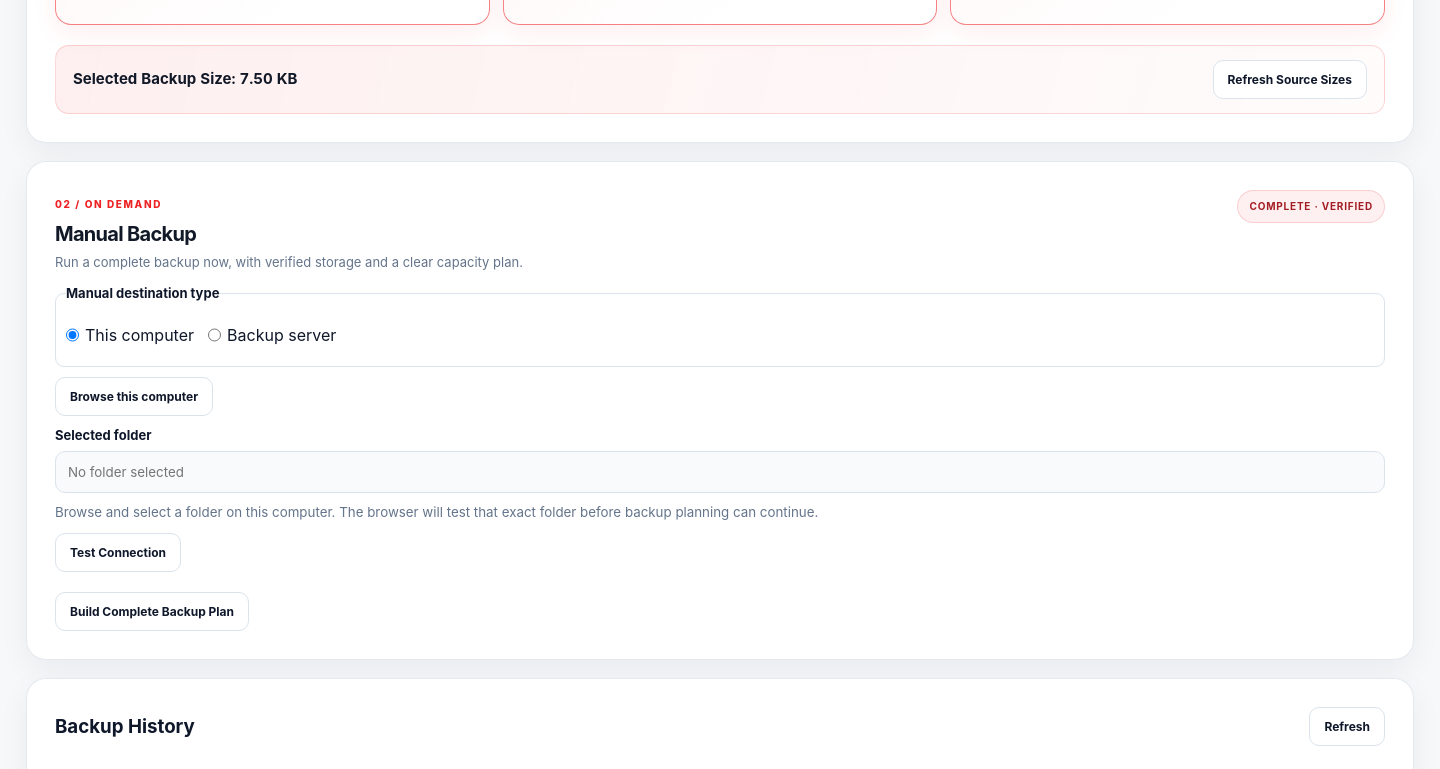
Test: AdminBackupPage › unsafe plan validation shows one actionable error and never starts the backup
(page scrolled)
Click the button "Browse this computer" at (134, 396), box x1=55 y1=377 x2=213 y2=416
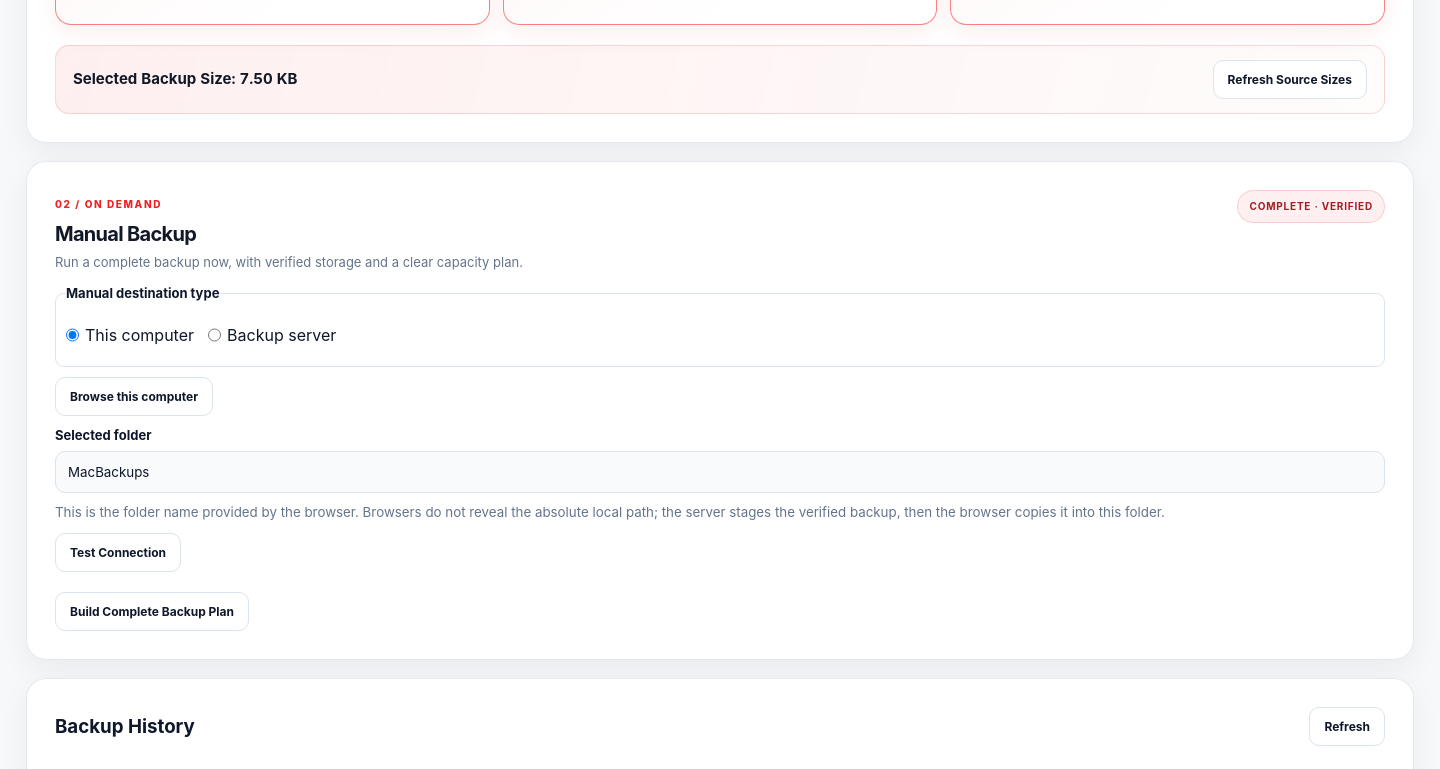
Check: the field labelled "Selected folder" holds "MacBackups", box x1=55 y1=451 x2=1385 y2=493
Click the button "Test Connection" at (118, 553), box x1=55 y1=533 x2=181 y2=572
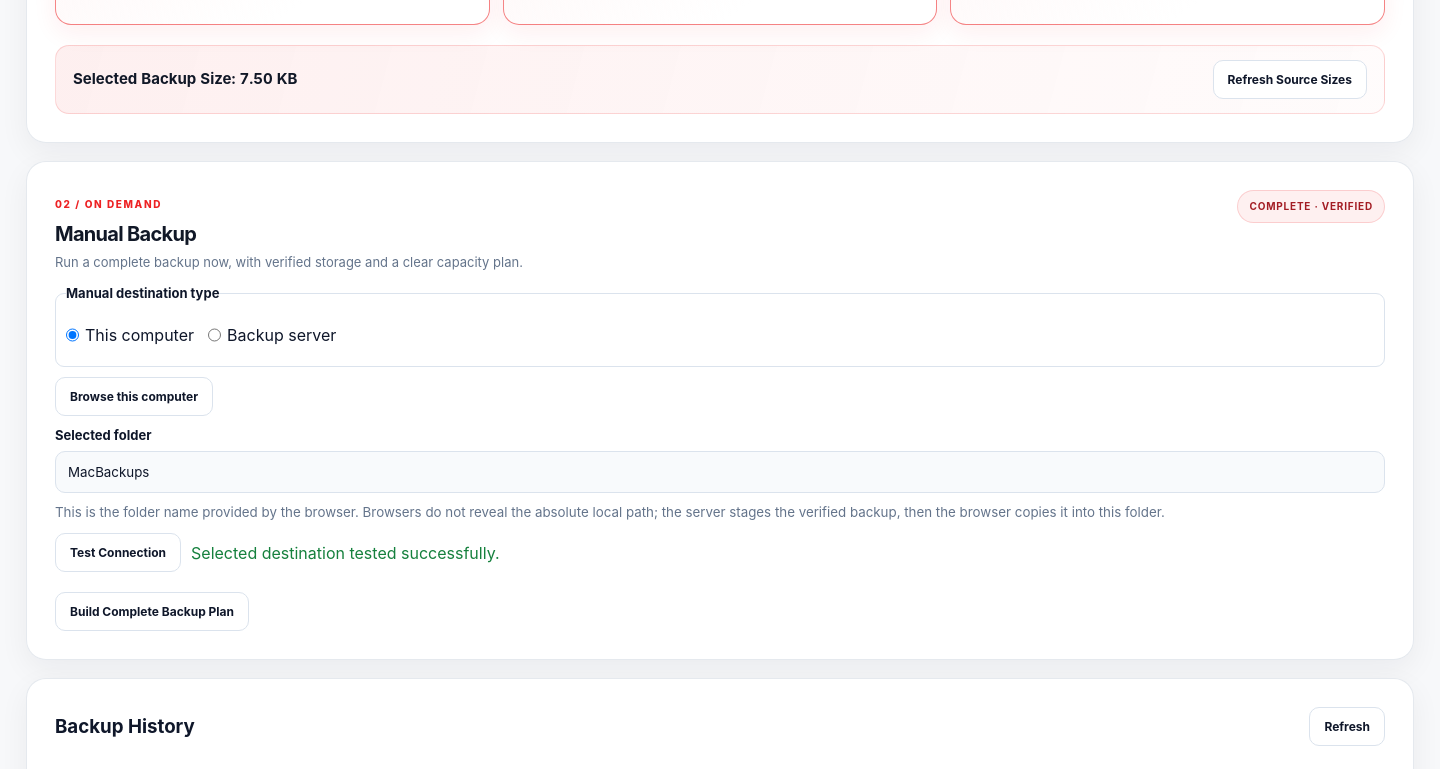
Check: the text "Selected destination tested successfully." is shown, box x1=191 y1=541 x2=500 y2=565
Click the button "Build Complete Backup Plan" at (152, 612), box x1=55 y1=592 x2=249 y2=631
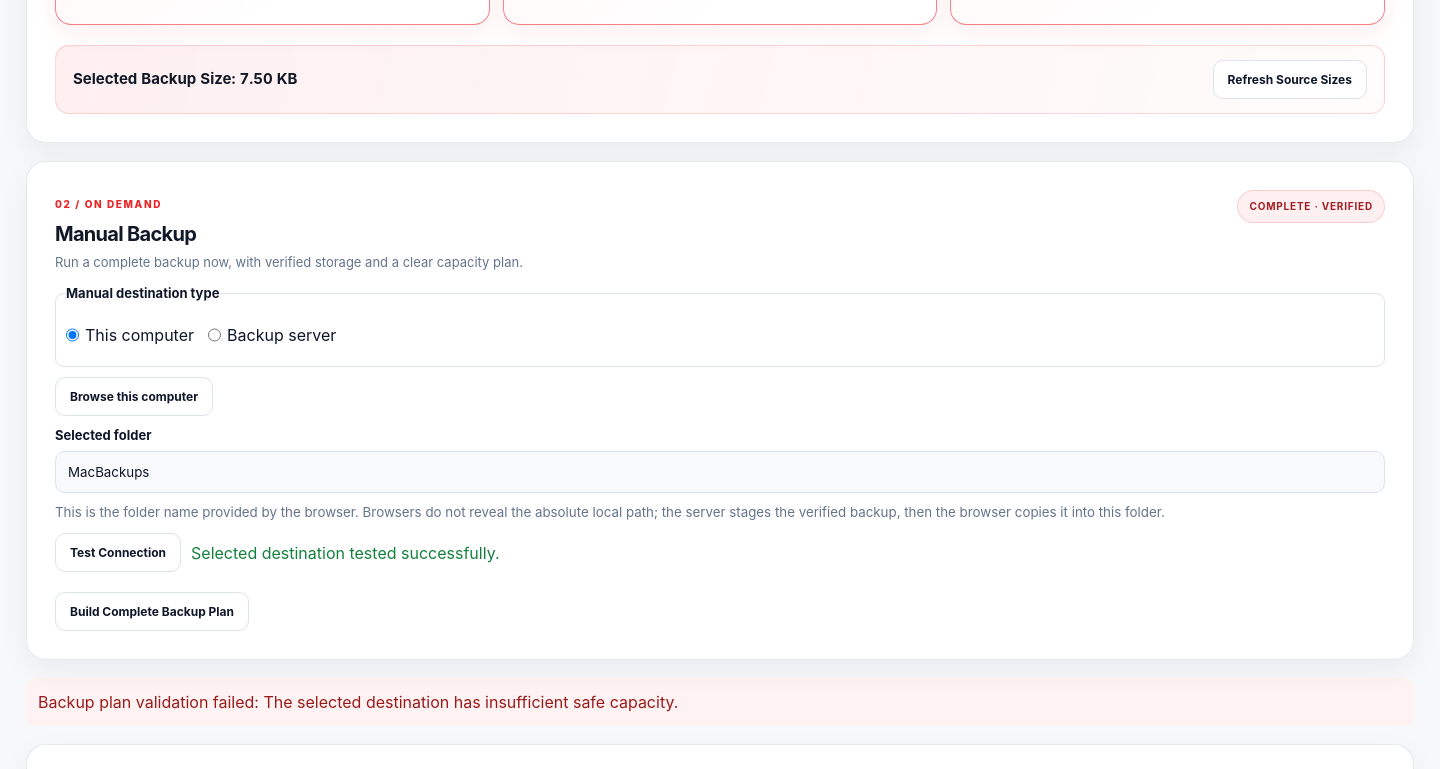
Check: the 2nd message shows "insufficient safe capacity", box x1=38 y1=692 x2=678 y2=712
